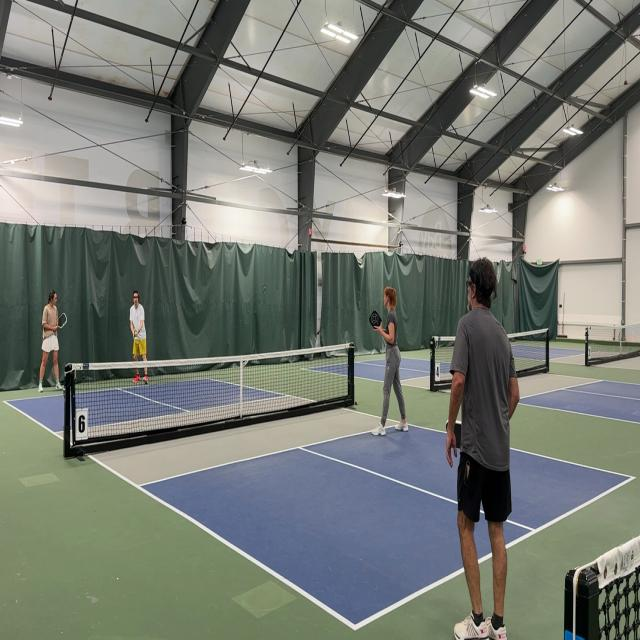ball: (134, 331, 137, 337)
